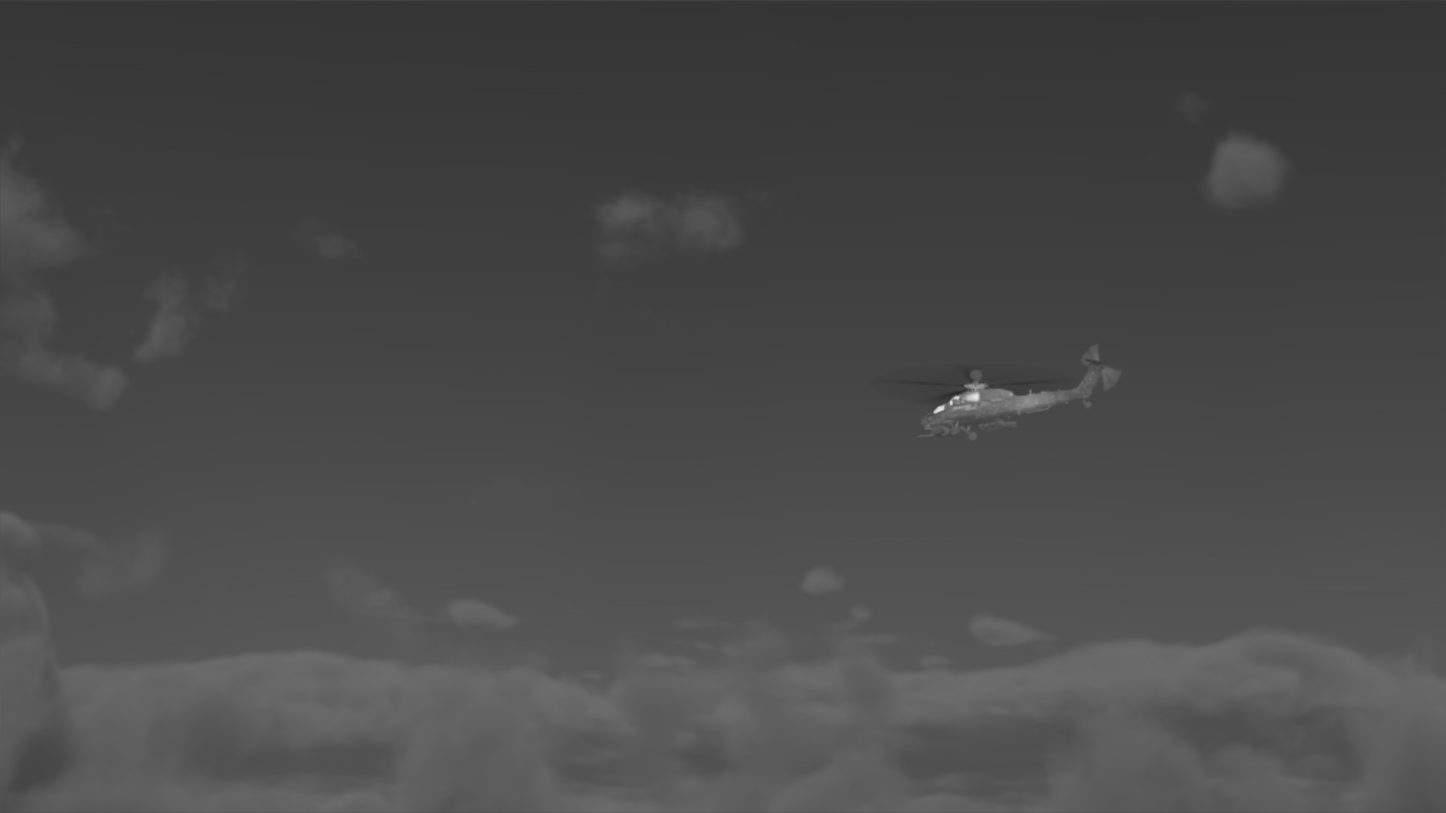mi28: (865, 342, 1127, 442)
